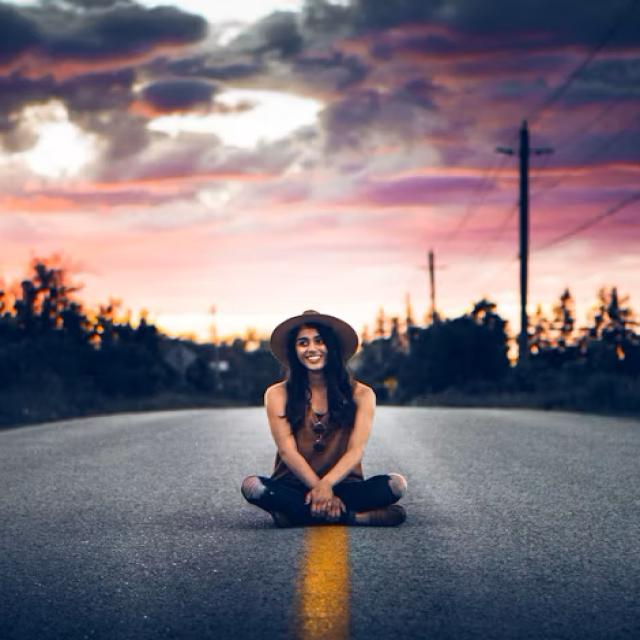Edited images: (228, 288, 438, 538)
